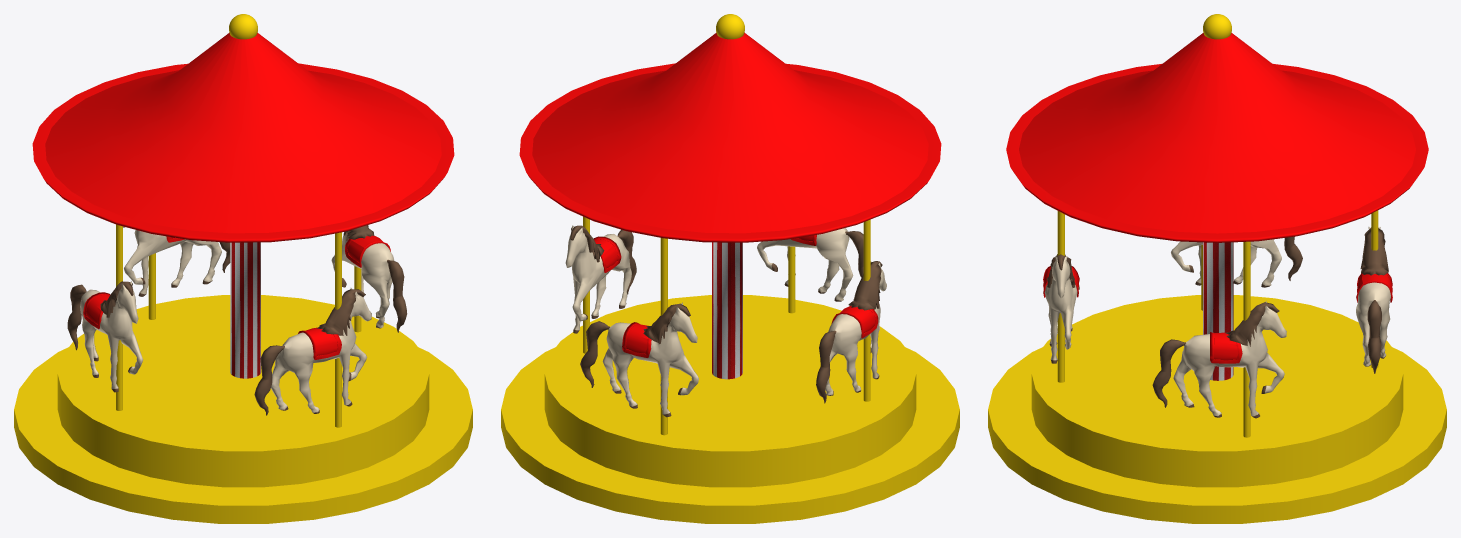
File: atlkarnca2.fbx
3 views of the same model, side by side, from view 1: azimuth 30°, elevation 25°; view 2: azimuth 150°, elevation 25°; view 3: azimuth 270°, elevation 25° (orthographic).
Visible parts, largest first — view 1: Cylinder, Cylinder.003; view 2: Cylinder, Cylinder.003; view 3: Cylinder, Cylinder.003.
Part boxes in pixels (x1,y1,x2,y2): Cylinder: (14, 14, 472, 523); Cylinder.003: (67, 224, 407, 427); Cylinder: (501, 14, 959, 523); Cylinder.003: (565, 216, 886, 435); Cylinder: (988, 14, 1446, 523); Cylinder.003: (1043, 210, 1392, 437).
Bounding box in the file's own units: 2030 × 2041 × 2023.
